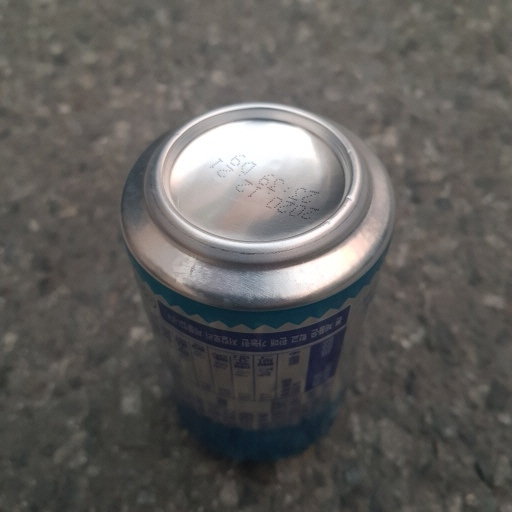Metal_0: (114, 99, 392, 466)
